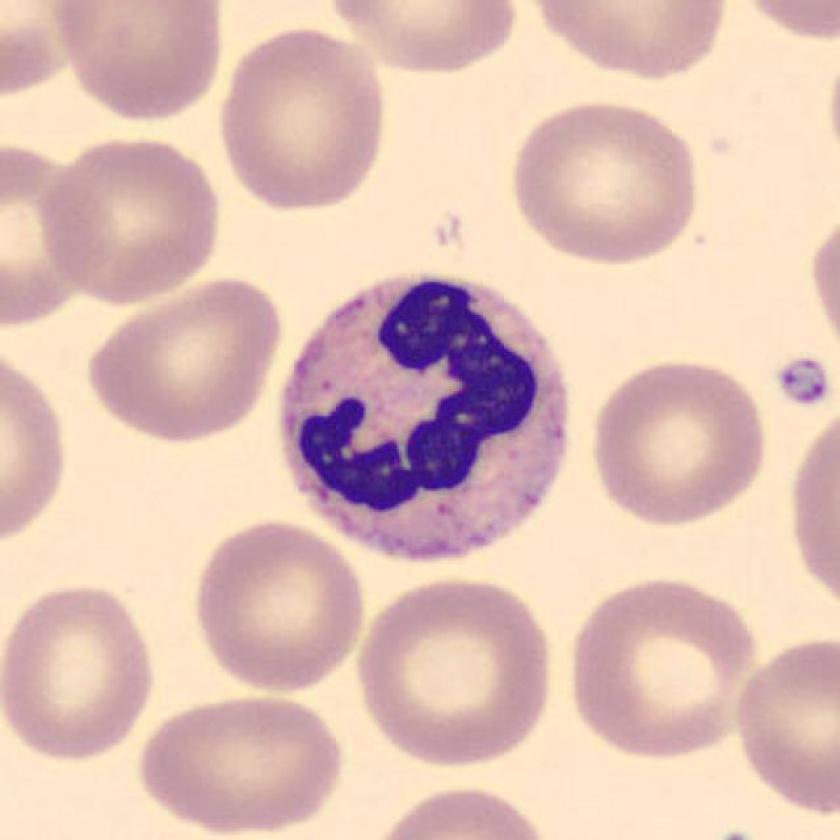neutrophil: (281, 277, 568, 564)
